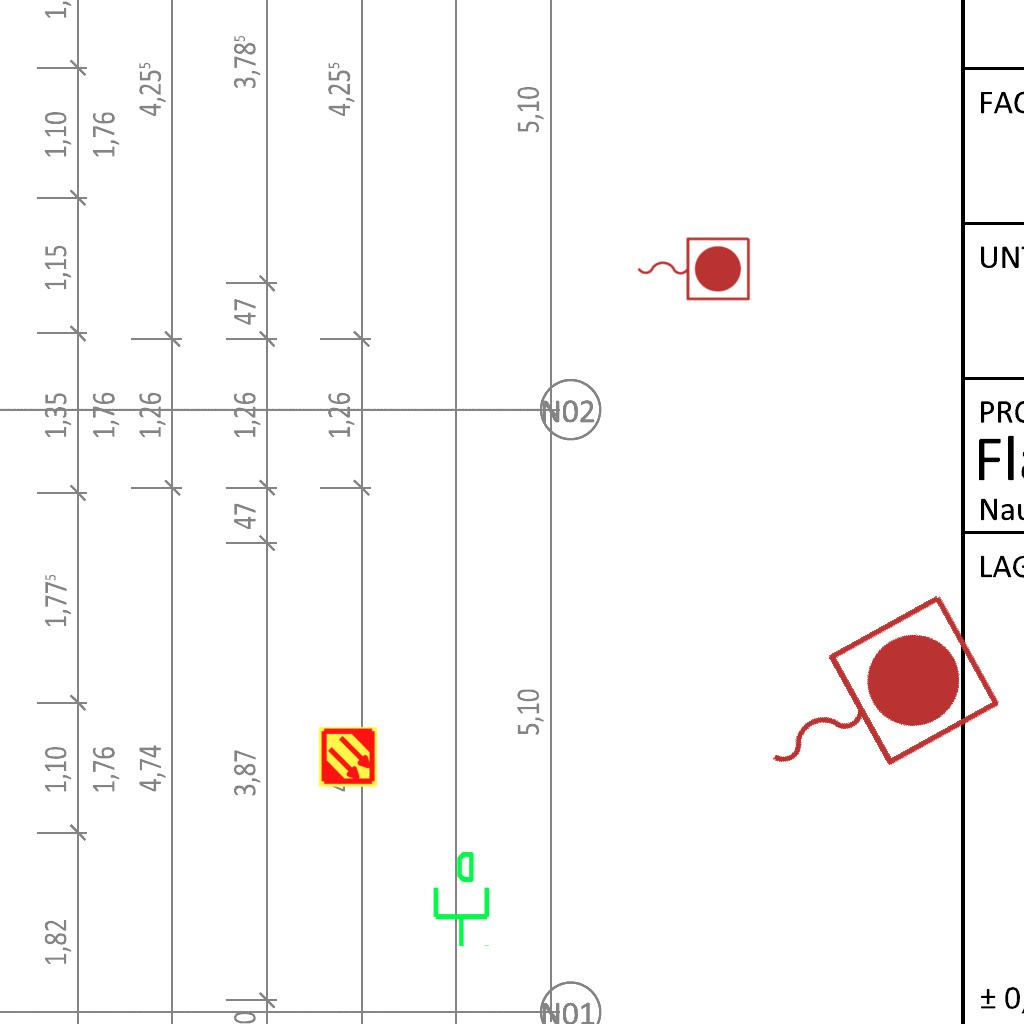ASR_Ansaugrauchmelder: (317, 726, 379, 788)
Datenanschluss_einfach: (425, 849, 494, 949)
Zugtaster: (727, 580, 1011, 826), (632, 232, 754, 304)
